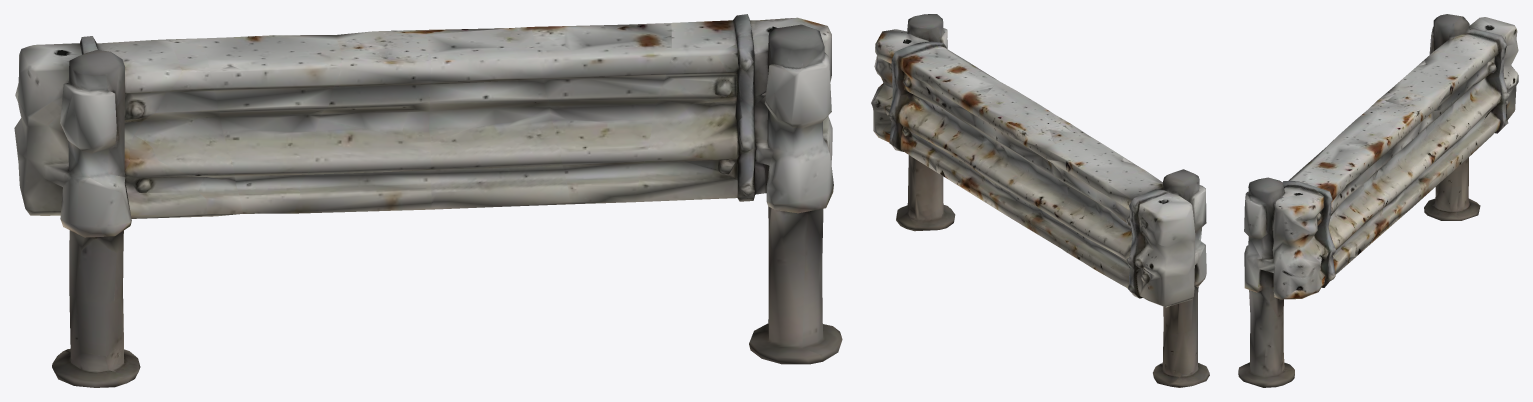
File: guardrail.glb
The picture shows the model from 3 angles, left to right: view 1: azimuth 30°, elevation 25°; view 2: azimuth 150°, elevation 25°; view 3: azimuth 270°, elevation 25°; orthographic projection. The views are drawn at different scales.
Visible parts, largest first — view 1: tripo_node_801787a0-2523-46c8-8f83-600d9fa4270f; view 2: tripo_node_801787a0-2523-46c8-8f83-600d9fa4270f; view 3: tripo_node_801787a0-2523-46c8-8f83-600d9fa4270f.
Boxes of the visible parts, x1,y1,x2,y2 form: tripo_node_801787a0-2523-46c8-8f83-600d9fa4270f: (14,14,842,387); tripo_node_801787a0-2523-46c8-8f83-600d9fa4270f: (871,14,1209,387); tripo_node_801787a0-2523-46c8-8f83-600d9fa4270f: (1238,14,1518,387).
Size of the model in its own units: 0.9997 by 0.4624 by 0.608.
1 material, 1 textured.
